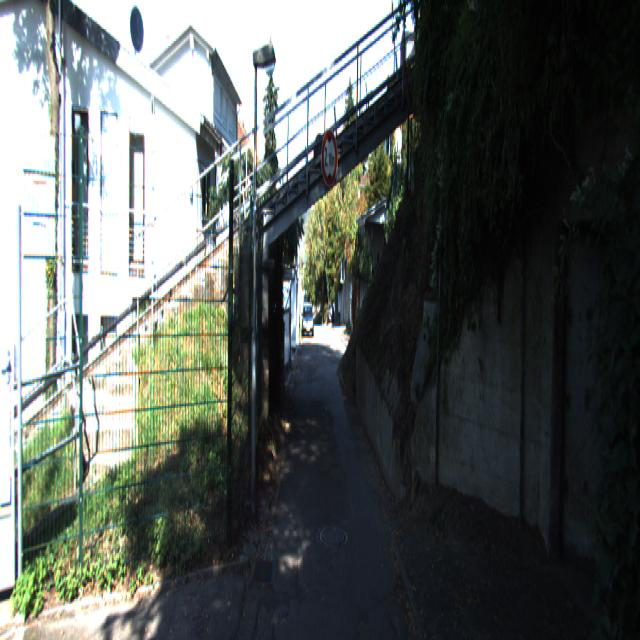Car: (302, 304, 314, 339)
DontCare: (326, 299, 334, 322)
